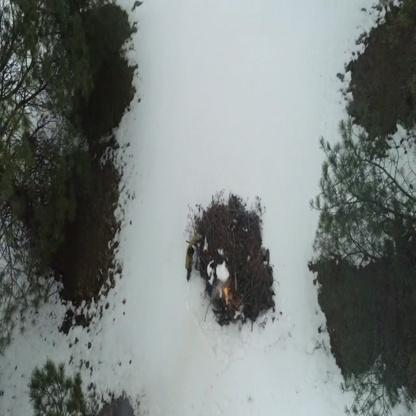Fire: (224, 284, 232, 306)
